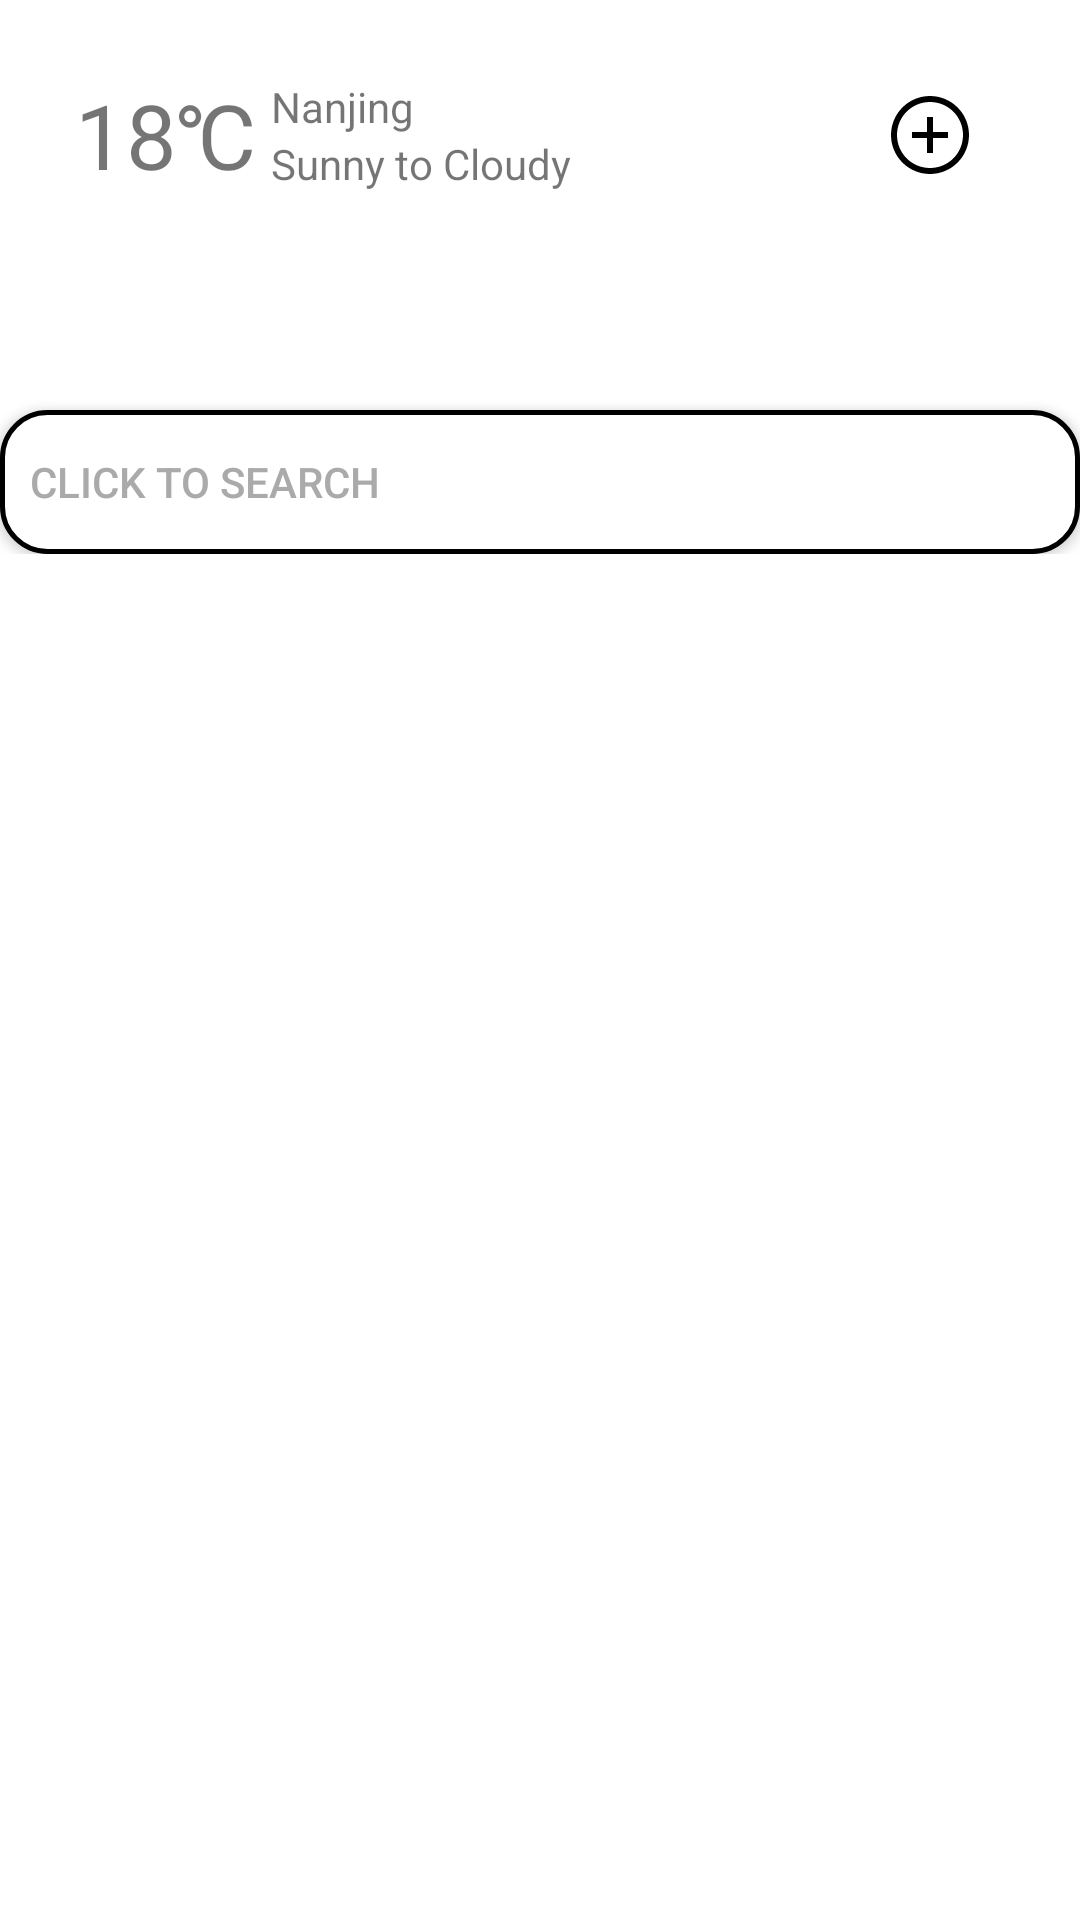

Icons on this 1080 × 1920 Android screen, each with its box as (x1, y1, x2, y2):
add: (891, 96, 969, 174)
